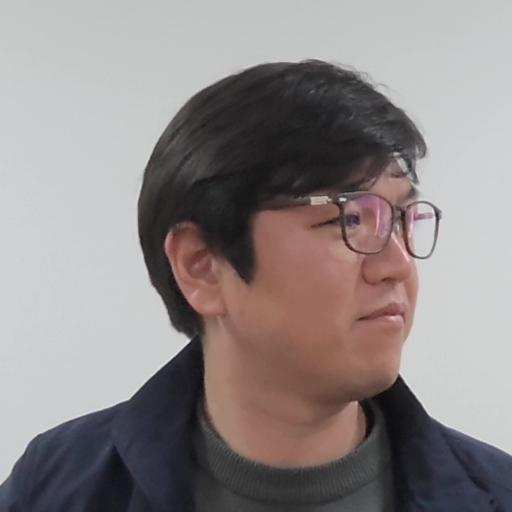no_glasses: (127, 56, 449, 409)
